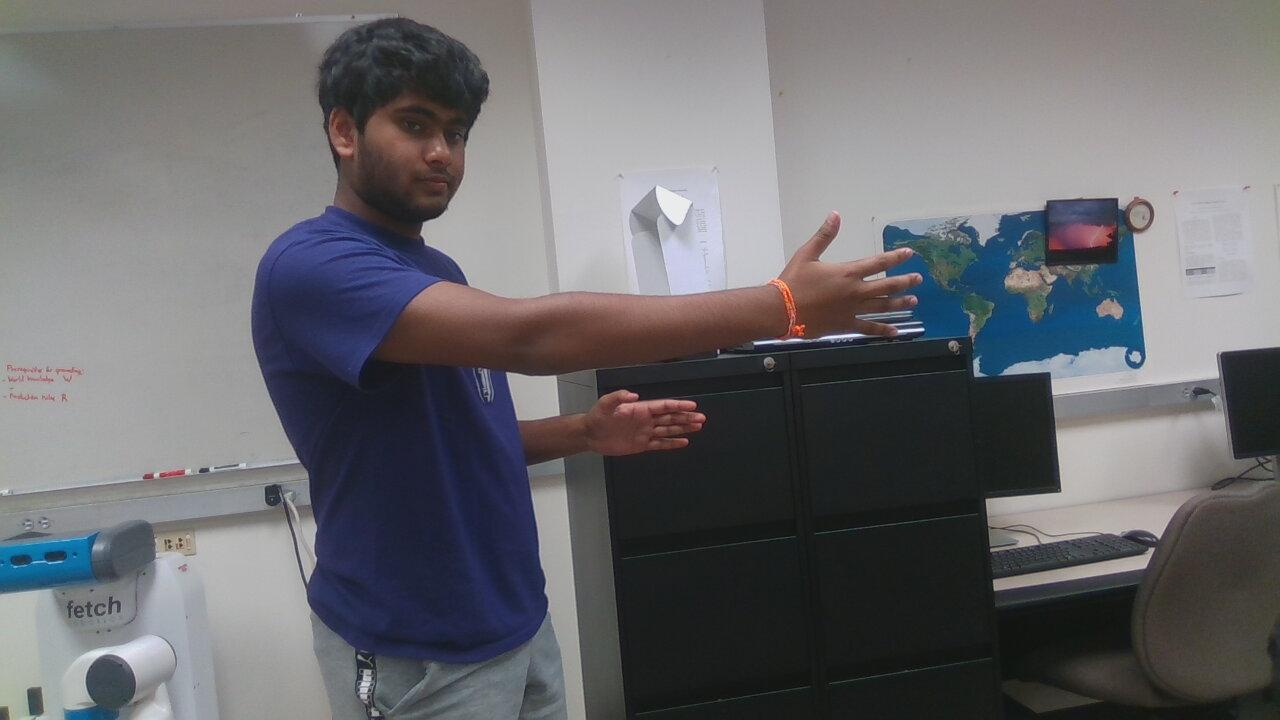hands: (768, 207, 929, 345), (566, 377, 710, 471)
